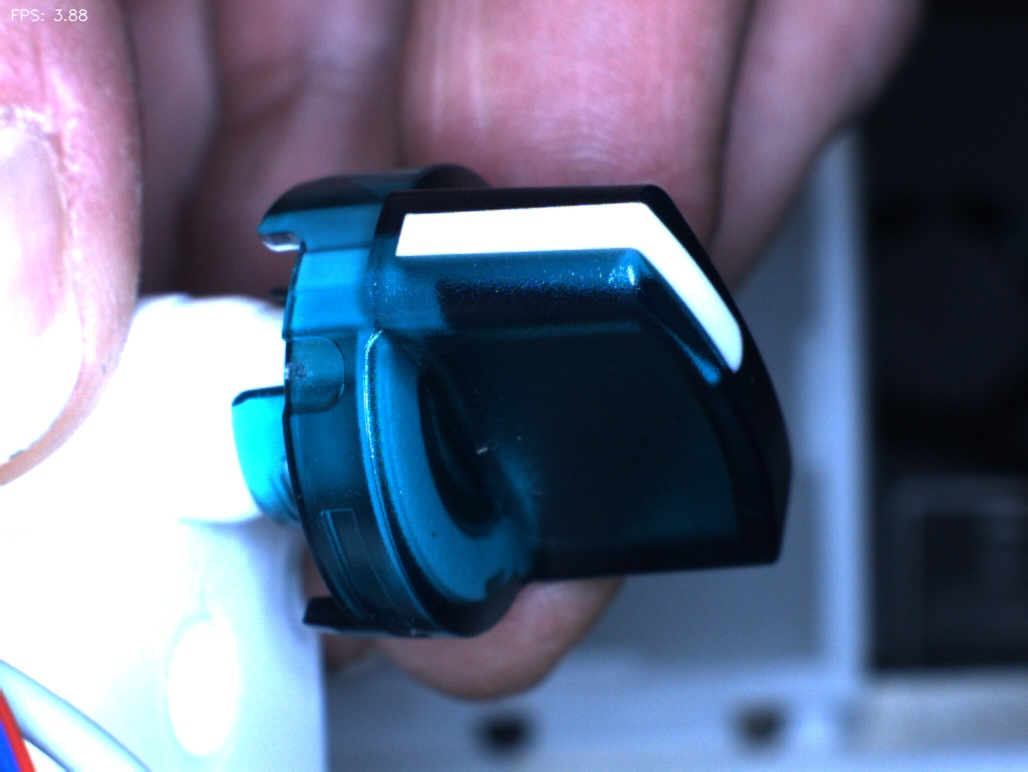PointNoir: (407, 507, 471, 570)
